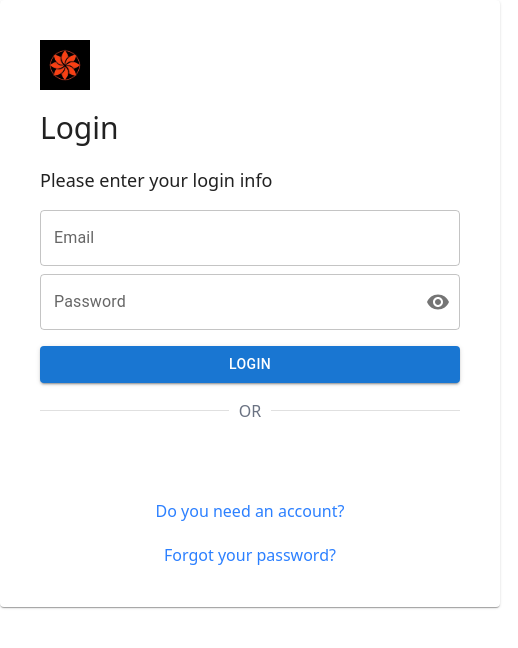
Test case: SignInPage - User Flows › Form Validation › prevents submission with invalid email
Type "not-an-email" into the field labelled "Email" at (250, 238), box top-left (40, 210), bottom-right (460, 266)
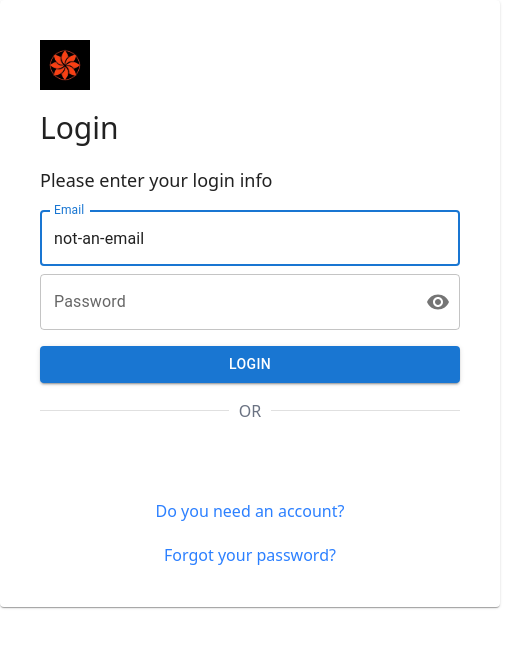
Type "password" into the password field labelled "Password" at (225, 302), box top-left (40, 274), bottom-right (410, 330)
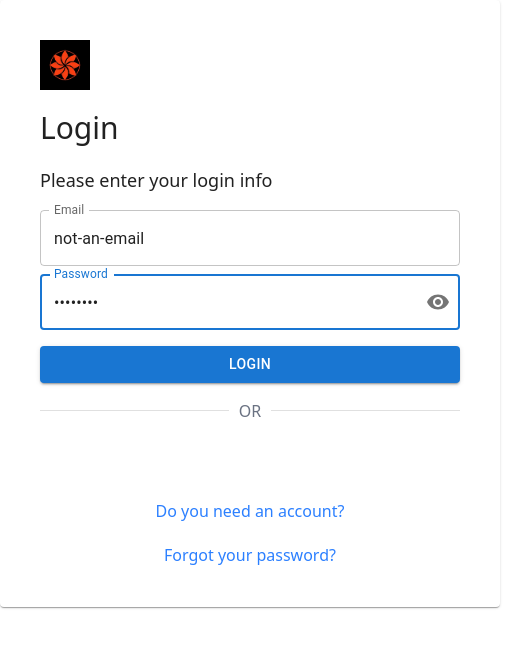
Click the button with test id "login-button" at (250, 364), box top-left (40, 346), bottom-right (460, 382)
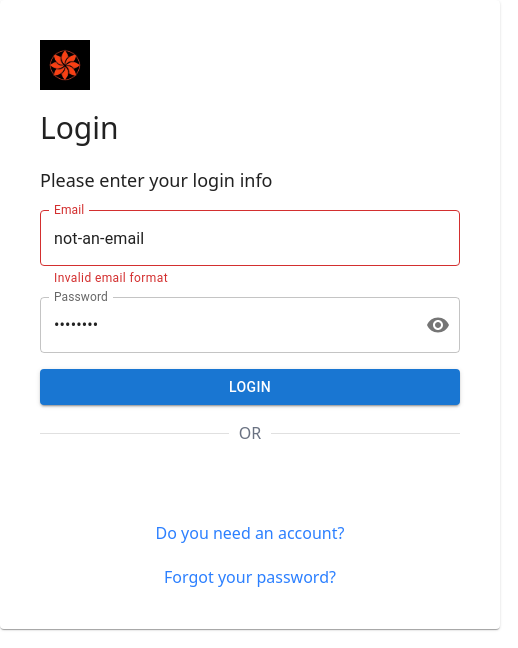
Expected: the text "Invalid email format" is shown, top-left (54, 271), bottom-right (168, 285)
